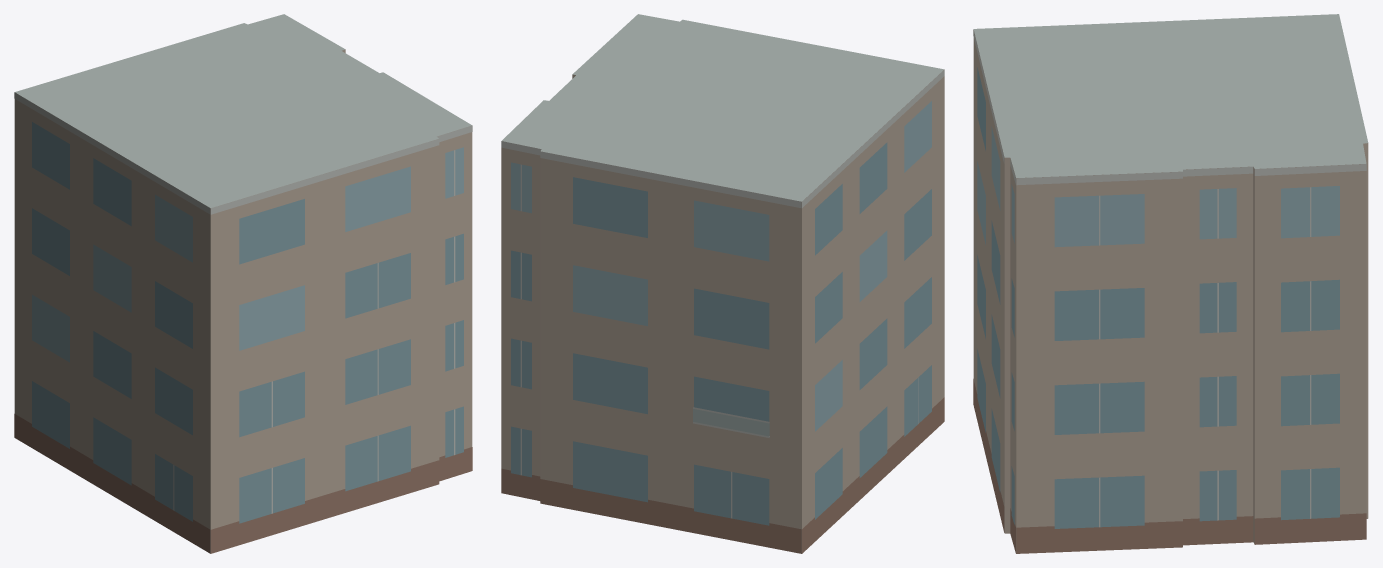
The model's file is survey-upis-32654926.glb.
3 renders of one model, left to right at view 1: azimuth 30°, elevation 25°; view 2: azimuth 150°, elevation 25°; view 3: azimuth 270°, elevation 25°, orthographic. The views are drawn at different scales.
Parts seen in each view (by area): view 1: survey-upis-32654926.tmp; view 2: survey-upis-32654926.tmp; view 3: survey-upis-32654926.tmp.
Boxes of the visible parts, bbox=[...] form: survey-upis-32654926.tmp: bbox=[14, 14, 472, 553]; survey-upis-32654926.tmp: bbox=[501, 14, 944, 553]; survey-upis-32654926.tmp: bbox=[973, 14, 1368, 553].
Bounding box in the file's own units: 12.14 × 12.95 × 12.34.
